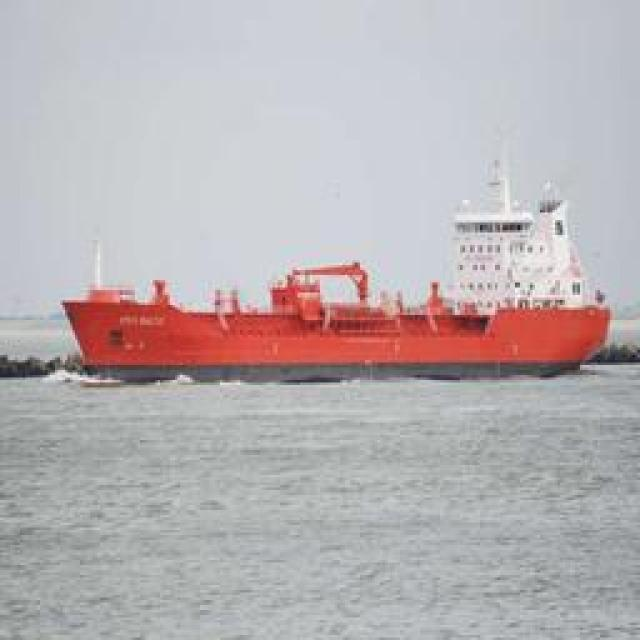CIV_Ship: (60, 174, 620, 382)
